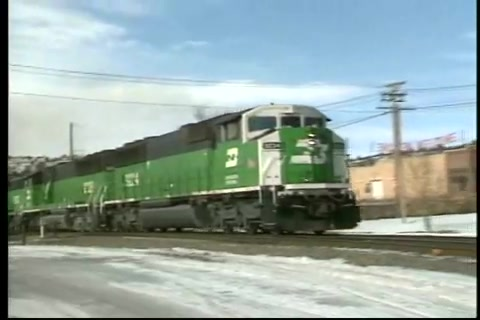train: (8, 104, 362, 237)
